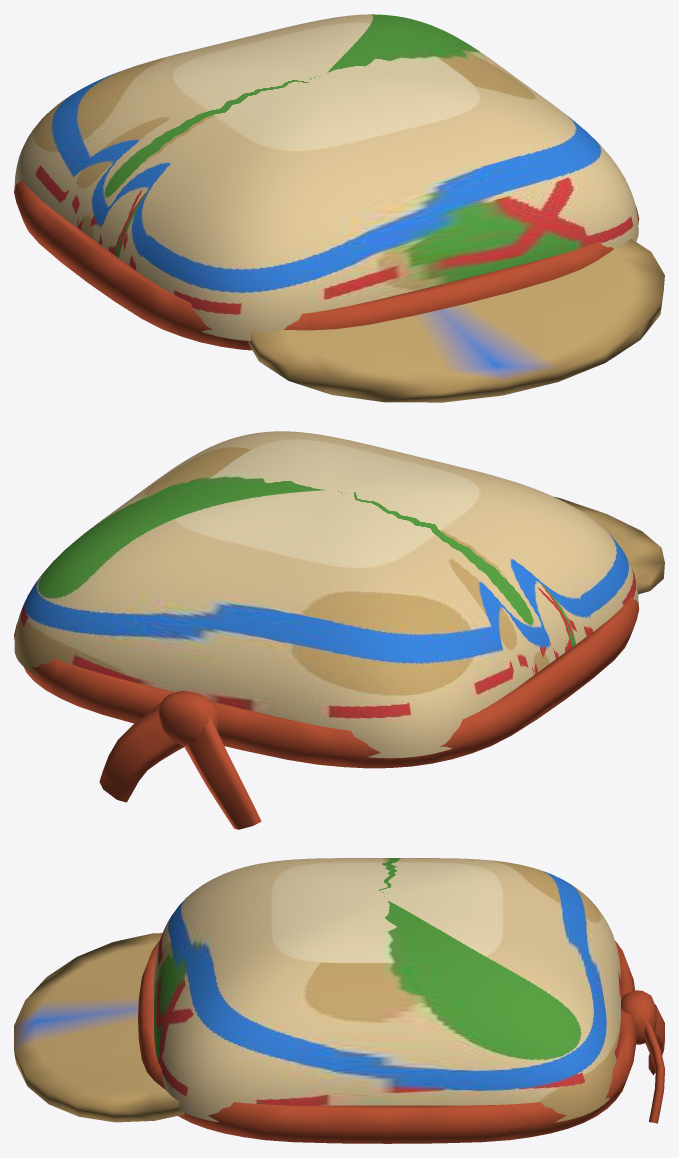
File: hat_bxmap.glb
The picture shows the model from 3 angles, top to bottom: view 1: azimuth 30°, elevation 25°; view 2: azimuth 150°, elevation 25°; view 3: azimuth 270°, elevation 25°; orthographic projection. The views are drawn at different scales.
Visible parts, largest first — view 1: bxmap; view 2: bxmap; view 3: bxmap.
Part boxes in pixels (x1,y1,x2,y2): bxmap: [14, 14, 664, 402]; bxmap: [14, 431, 664, 829]; bxmap: [14, 858, 664, 1143].
Size of the model in its own units: 2.91 by 1.24 by 3.67.
Materials: 2 (1 with a texture image).
